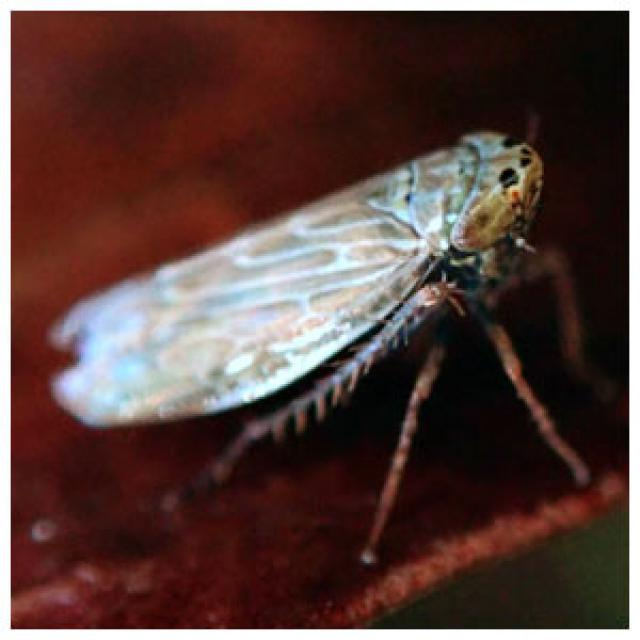Yechan: (39, 120, 573, 490)
